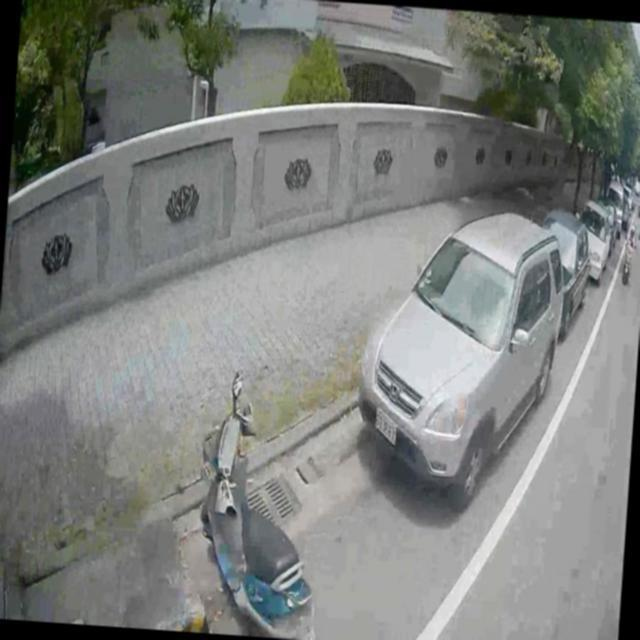person: (626, 225, 636, 249)
